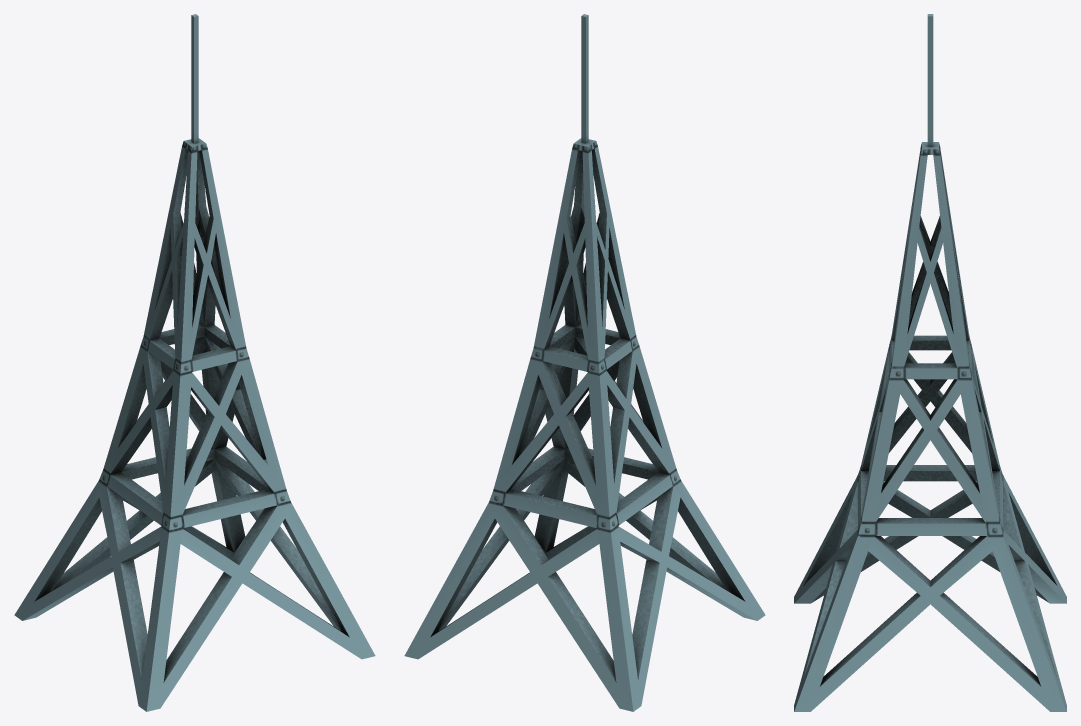
The model's file is torre.FBX.
3 renders of one model, left to right at view 1: azimuth 30°, elevation 25°; view 2: azimuth 150°, elevation 25°; view 3: azimuth 270°, elevation 25°, orthographic. The views are drawn at different scales.
Visible parts, largest first — view 1: Box001; view 2: Box001; view 3: Box001.
Part boxes in pixels (x1,y1,x2,y2): Box001: (14,14,375,711); Box001: (404,14,765,711); Box001: (794,14,1066,711).
Bounding box in the file's own units: 39.89 × 39.89 × 103.
1 material, 1 textured.
